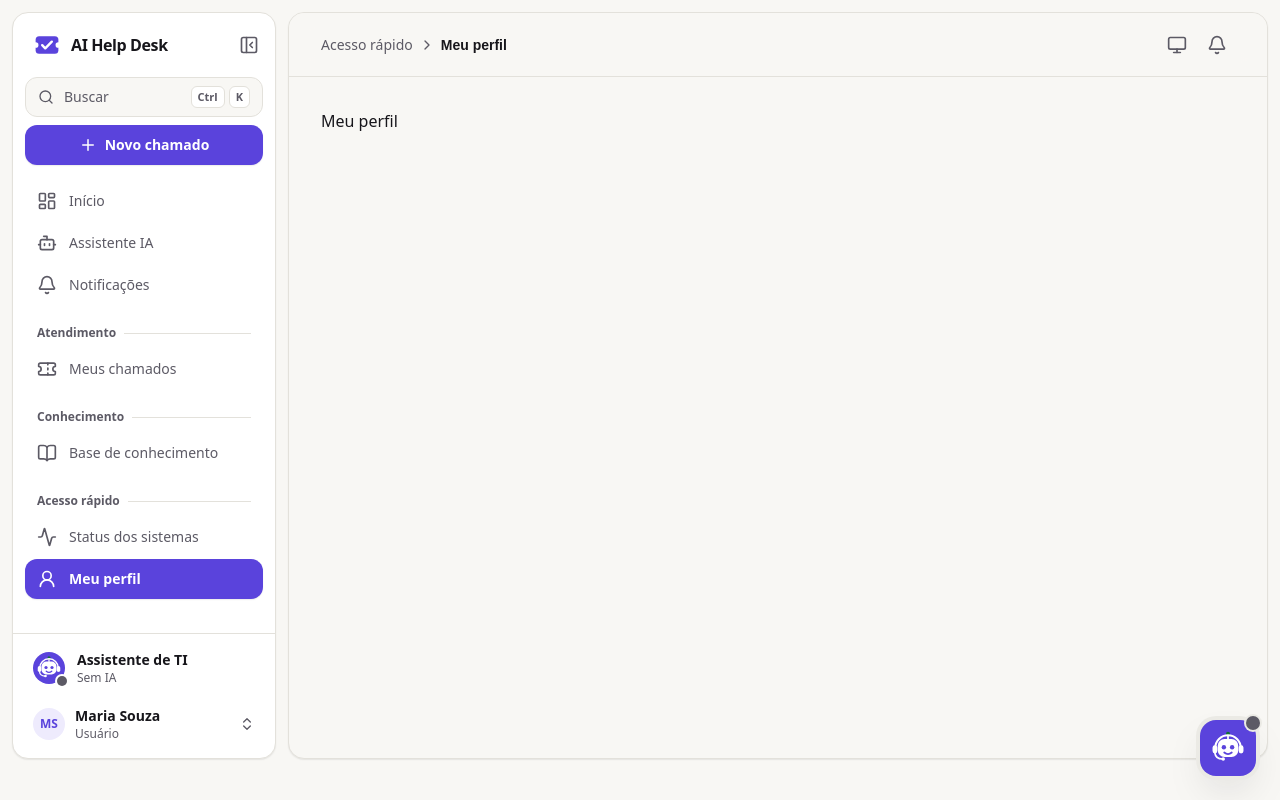
Test case: AppLayout › mostra no menu como o assistente está respondendo
The width and height of the screenshot is (1280, 800).
Expected: the text "Sem IA" is shown, [77,668,116,686]
Note: Um clique abre o painel flutuante do assistente (sem sair da página).
Click the button "Assistente de TI Sem IA".
click(144, 668)  # box [25,642,263,694]
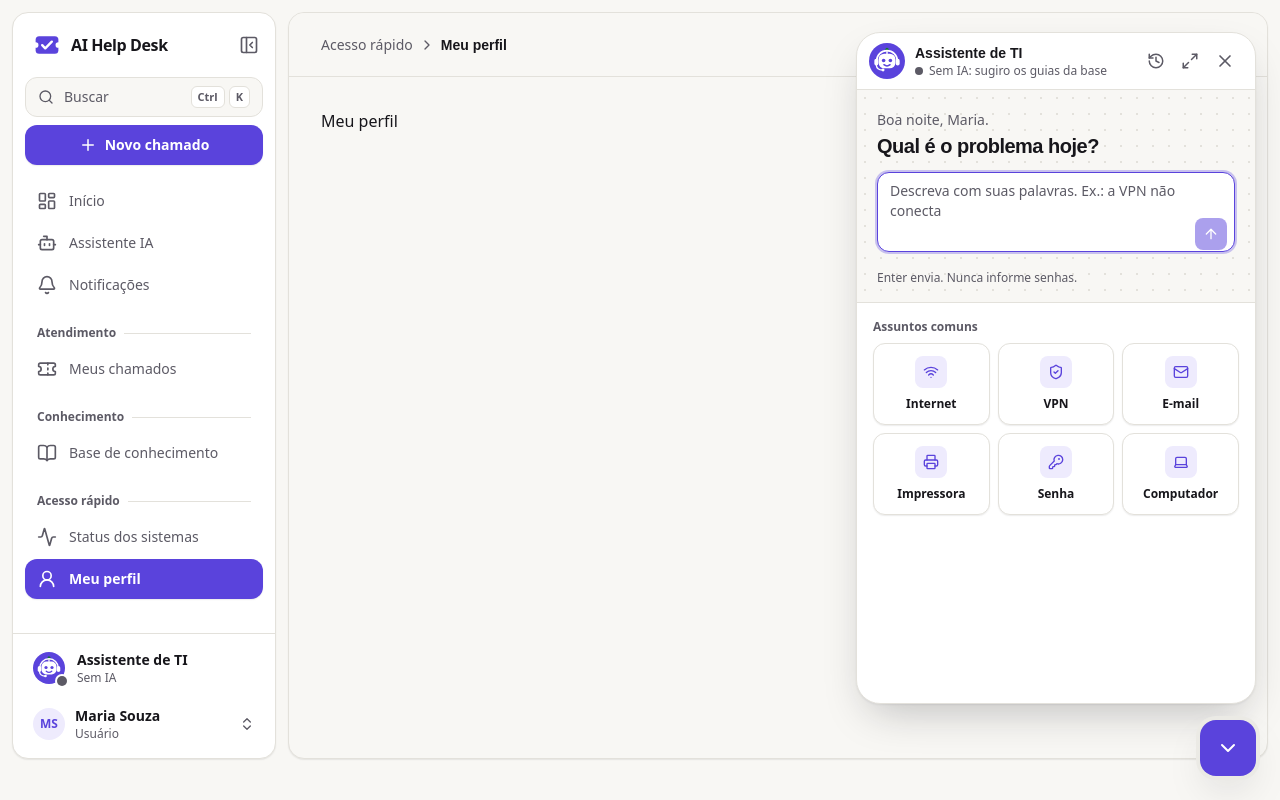
Expected: the heading "Meu perfil" is shown, [321,110,398,132]
Result: the dialog "Assistente de TI" is shown at [856,32,1256,704]
